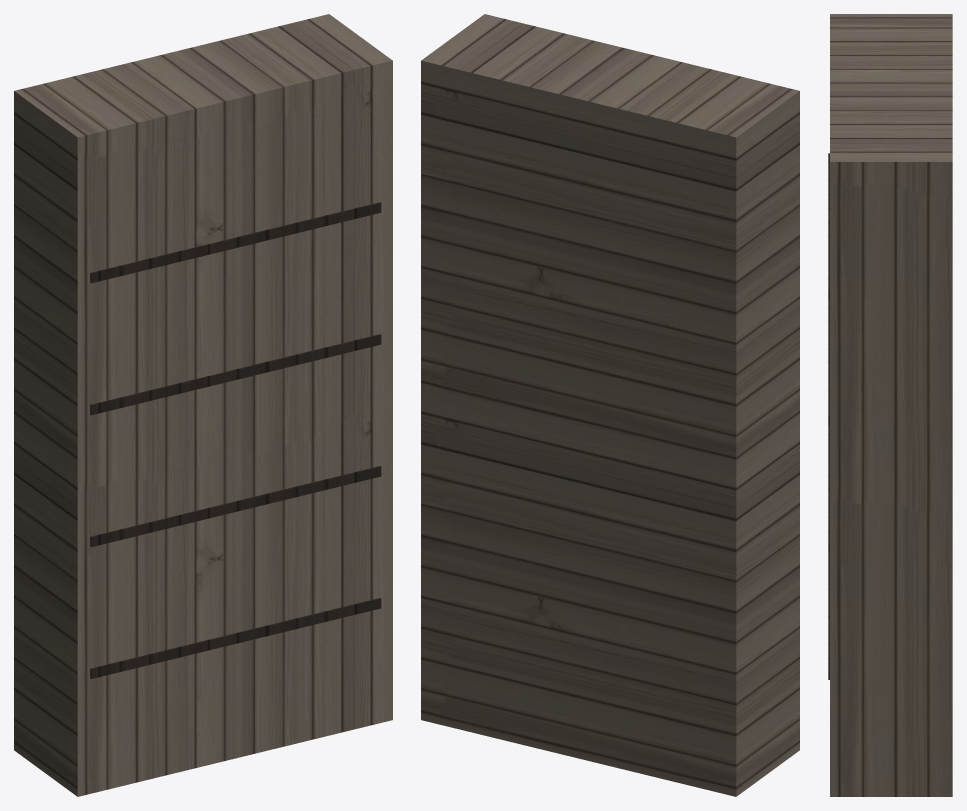
The model's file is bookshelf_01.glb.
3 views of the same model, side by side, from view 1: azimuth 30°, elevation 25°; view 2: azimuth 150°, elevation 25°; view 3: azimuth 270°, elevation 25° (orthographic). The views are drawn at different scales.
Visible parts, largest first — view 1: bookshelf_01; view 2: bookshelf_01; view 3: bookshelf_01.
Part boxes in pixels (<box>): bookshelf_01: <box>14,14,392,796</box>; bookshelf_01: <box>421,14,799,796</box>; bookshelf_01: <box>828,14,952,796</box>.
Bounding box in the file's own units: 1 × 2 × 0.355.
Materials: 7 (7 with a texture image).
